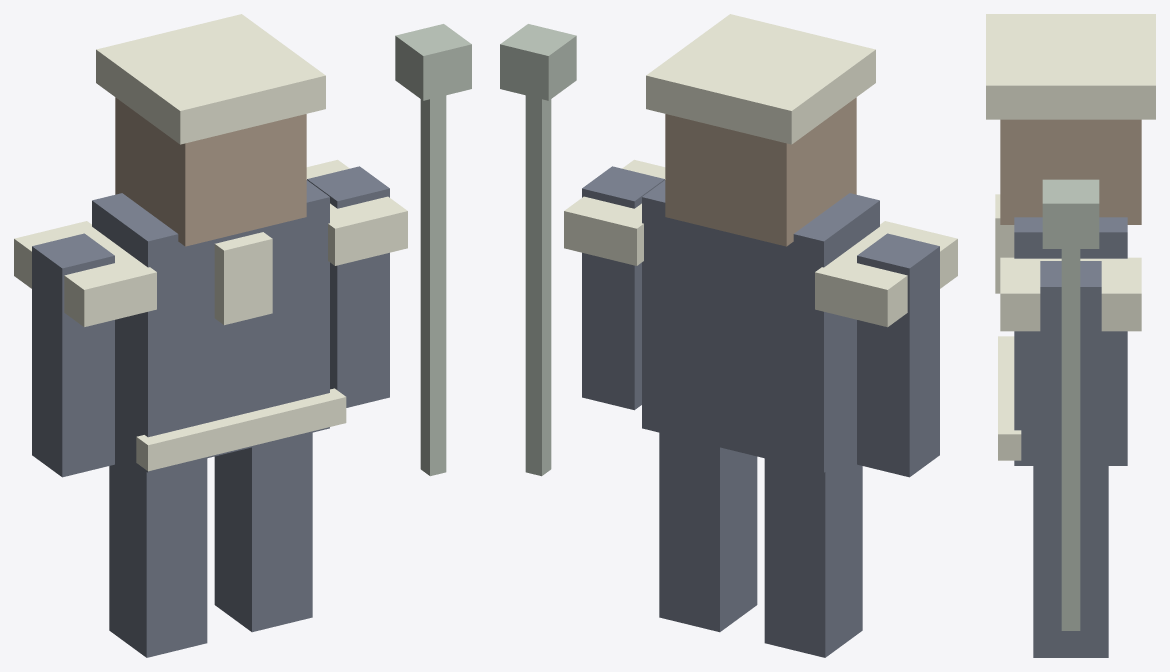
File: 13_nix_runeclasp_warden_of_counterweight.glb
3 views of the same model, side by side, from view 1: azimuth 30°, elevation 25°; view 2: azimuth 150°, elevation 25°; view 3: azimuth 270°, elevation 25° (orthographic).
Parts seen in each view (by area): view 1: Nix Runeclasp, Warden of Counterweight; view 2: Nix Runeclasp, Warden of Counterweight; view 3: Nix Runeclasp, Warden of Counterweight.
Part boxes in pixels (<box>): Nix Runeclasp, Warden of Counterweight: <box>14,14,471,657</box>; Nix Runeclasp, Warden of Counterweight: <box>500,14,957,657</box>; Nix Runeclasp, Warden of Counterweight: <box>986,14,1155,657</box>.
Size of the model in its own units: 1.09 by 1.42 by 0.3865.
